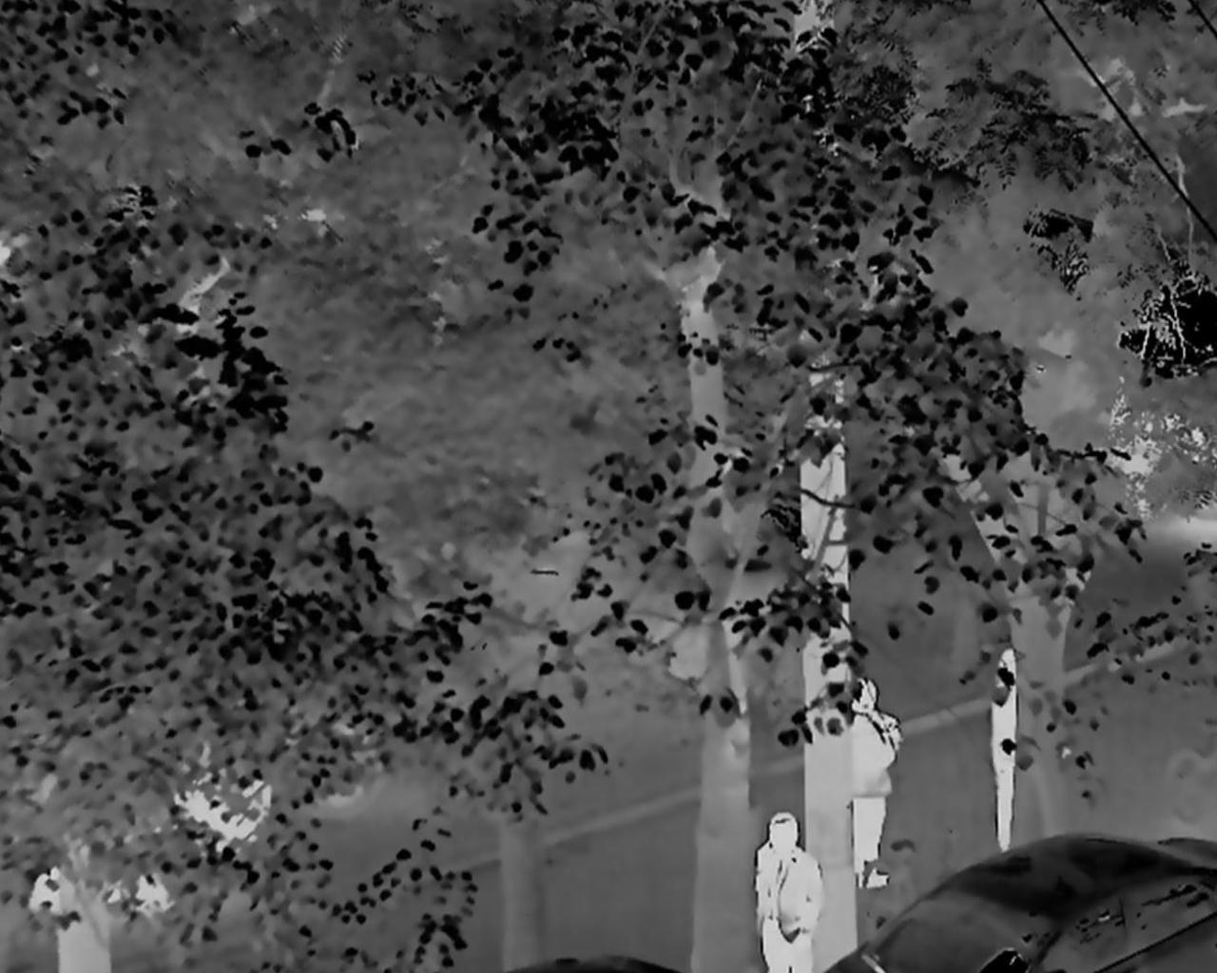person: (848, 676, 899, 896), (758, 817, 825, 973), (993, 647, 1024, 868)
